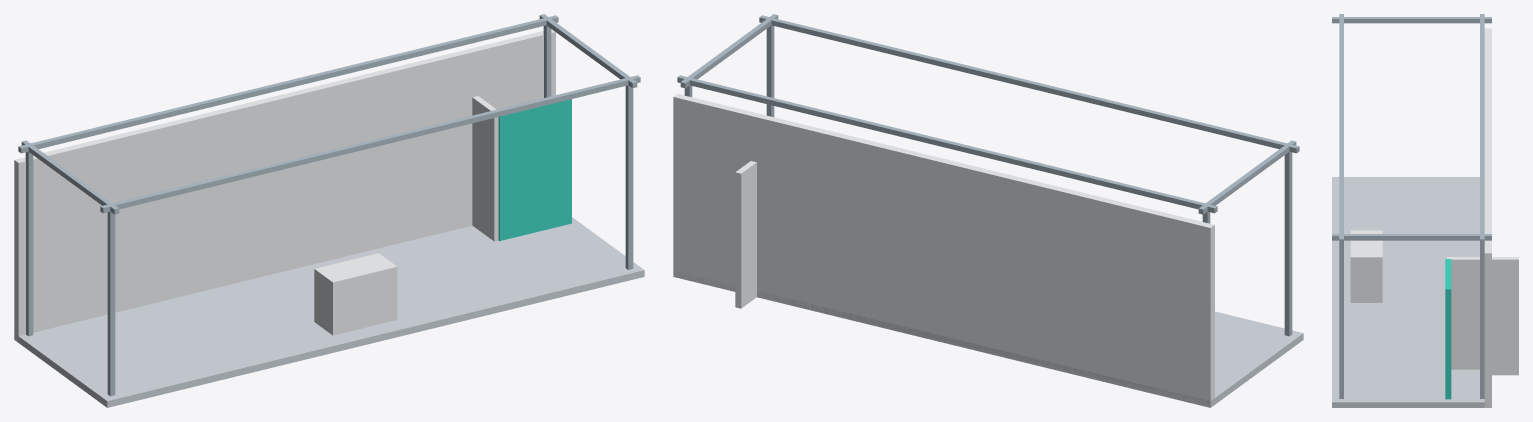
3 views of the same model, side by side, from view 1: azimuth 30°, elevation 25°; view 2: azimuth 150°, elevation 25°; view 3: azimuth 270°, elevation 25° (orthographic). The views are drawn at different scales.
Visible parts, largest first — view 1: Exhibition Booth Concept; view 2: Exhibition Booth Concept; view 3: Exhibition Booth Concept.
Part boxes in pixels (box(x1,y1,x2,y2)): Exhibition Booth Concept: box(14, 14, 644, 407); Exhibition Booth Concept: box(673, 14, 1303, 407); Exhibition Booth Concept: box(1332, 14, 1518, 407).
Bounding box in the file's own units: 10 × 3.49 × 3.51.
